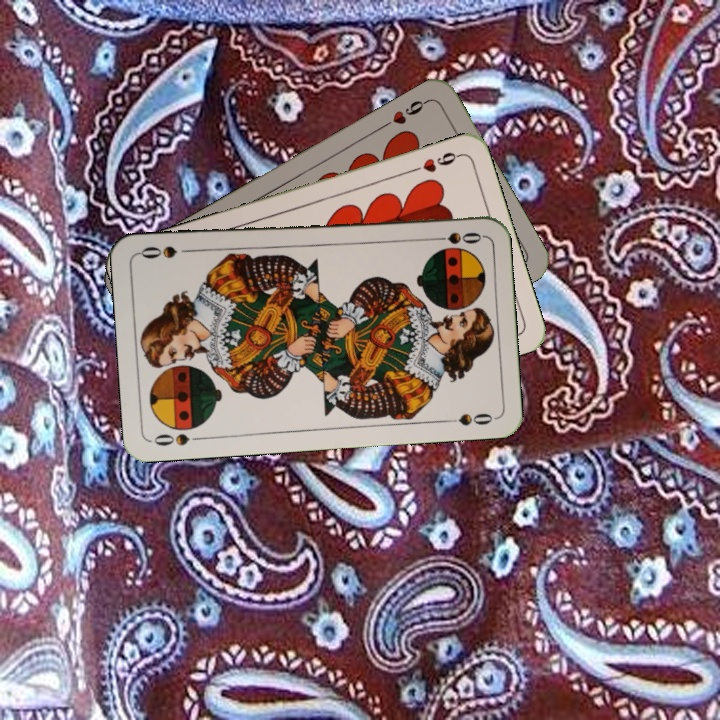H9: (377, 95, 431, 131), (405, 148, 463, 175)
SO: (150, 429, 207, 449), (425, 228, 484, 246)
